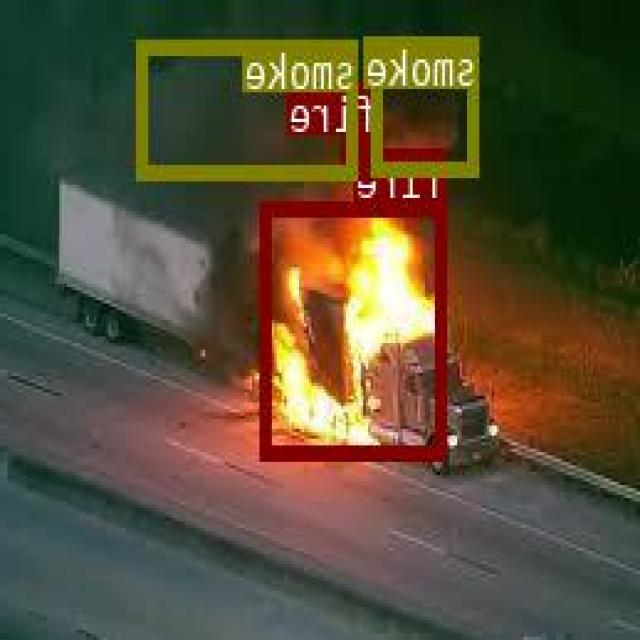fire: (263, 201, 449, 458), (346, 132, 381, 178)
smoke: (140, 39, 360, 178), (373, 34, 481, 173)
